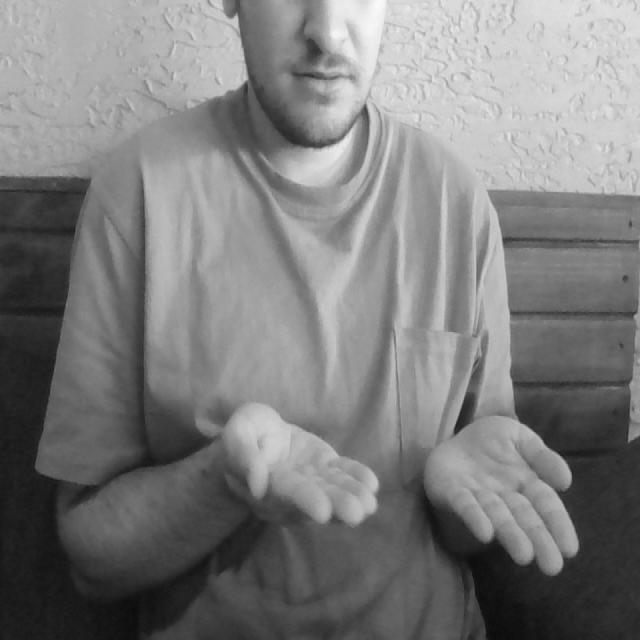Evet: (215, 397, 586, 580)
